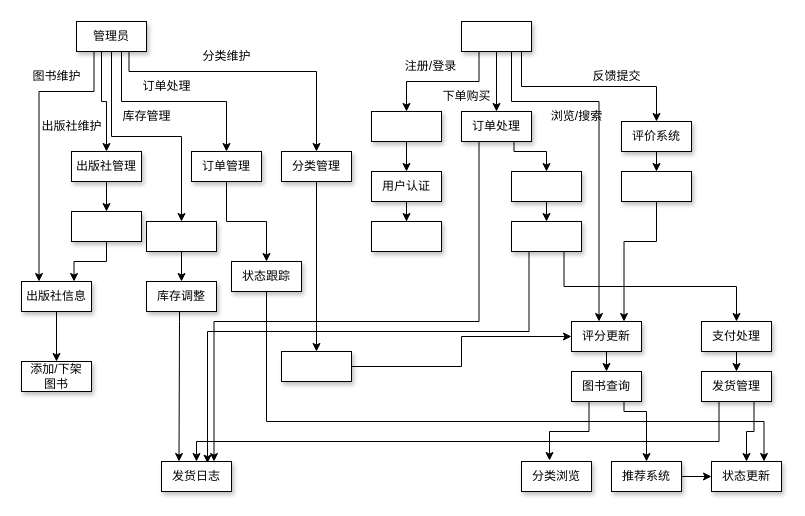
Image size: 805x516. Some labels were removed from this diagram. The shapes that lost their labels are listed below. From the top down, each one's centre as x and y in pixels, then its label:
At point (497, 37): "用户".
At point (407, 127): "用户管理".
At point (547, 187): "创建订单".
At point (657, 187): "更新 图书评分".
At point (107, 227): "出版社关联".
At point (182, 237): "库存操作".
At point (407, 237): "权限管理".
At point (547, 237): "库存检测".
At point (317, 367): "分类关联".
